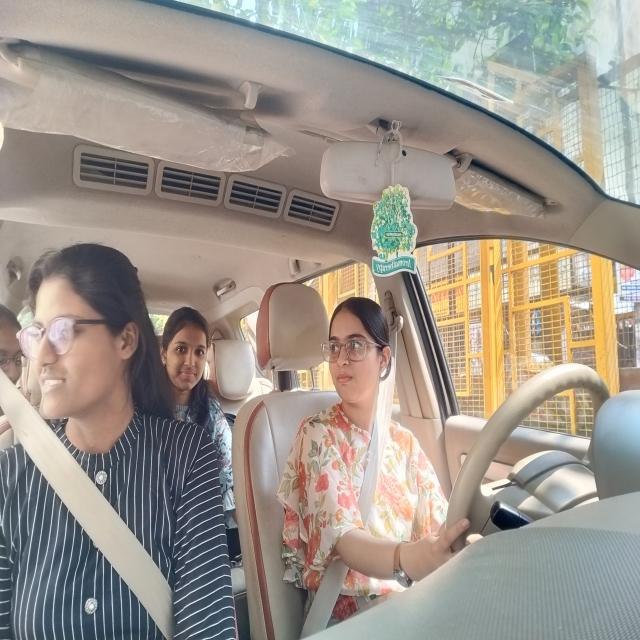LeftRight: (321, 299, 395, 410)
person: (27, 255, 154, 422), (167, 305, 216, 404), (0, 301, 25, 386)
